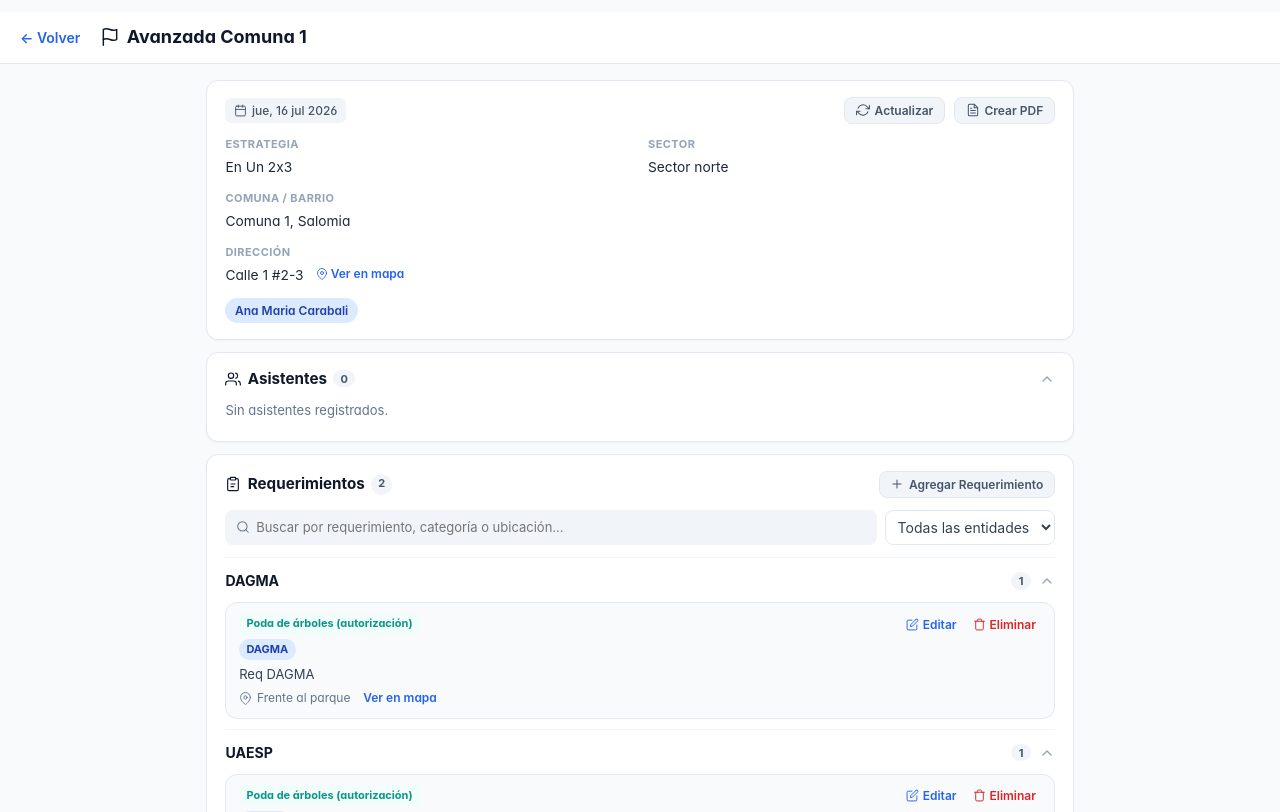
Scenario: DetalleAvanzada › requerimientos › filters requerimientos by entidad via the select dropdown
Select "UAESP" in the dropdown showing "Todas las entidades" at (970, 527), box [885,510,1055,545]
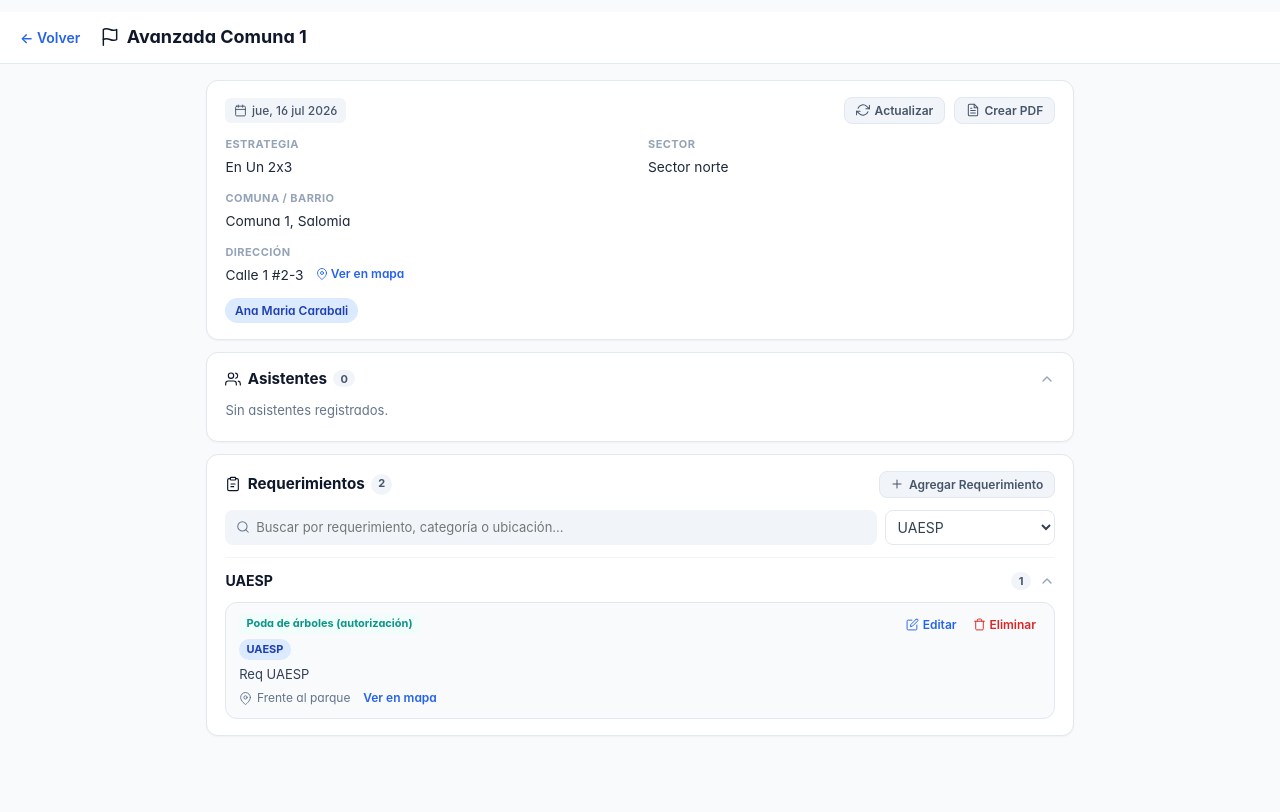
Result: the text "Req DAGMA" is gone
Result: the text "Req UAESP" is shown at [239,666,309,682]
